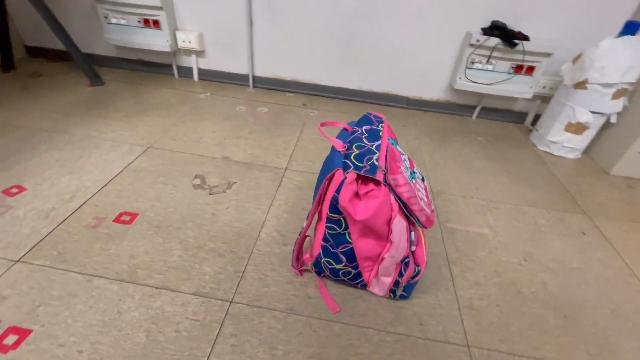Backpack: (286, 104, 438, 318)
